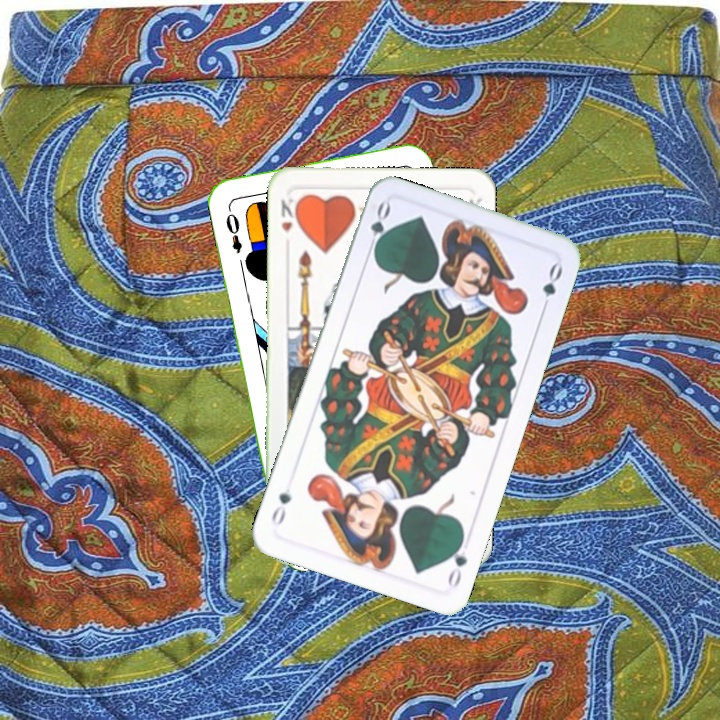EO: (221, 203, 245, 256)
GO: (363, 198, 393, 258), (444, 532, 470, 591)
HK: (276, 191, 301, 235)
